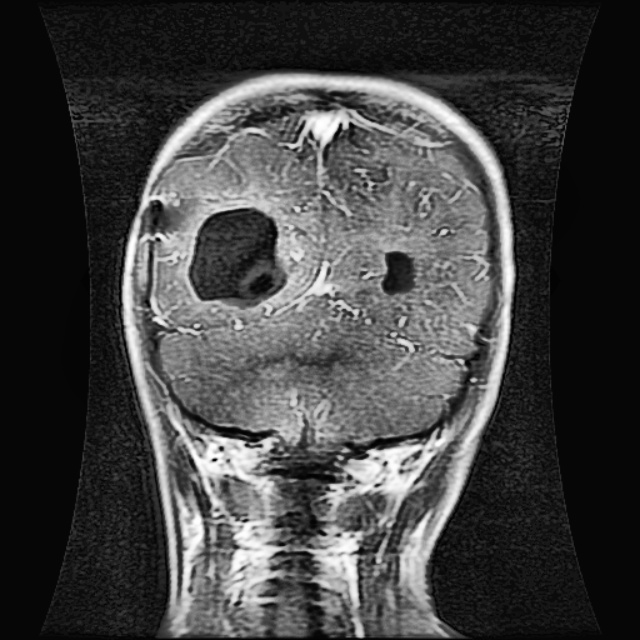Meningioma: (182, 205, 289, 310)
